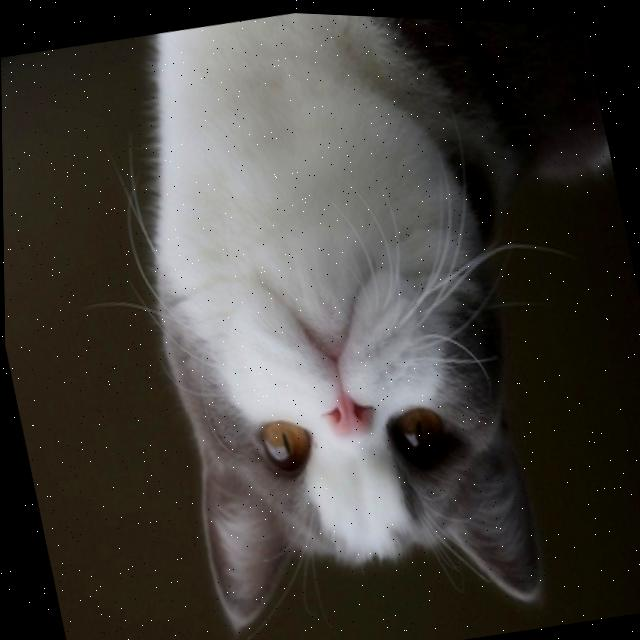British Shorthair: (93, 3, 640, 640)
